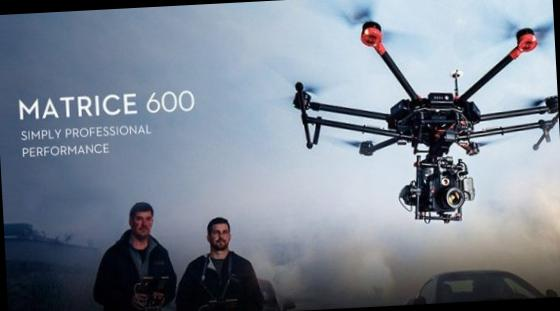drone: (262, 3, 560, 182)
